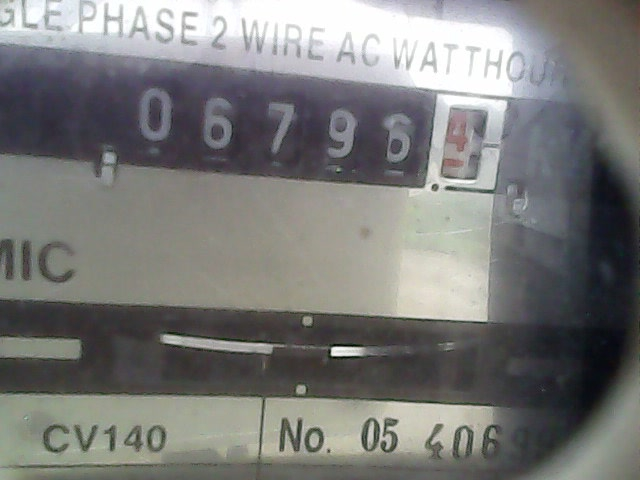phy_plate: (114, 53, 516, 208)
